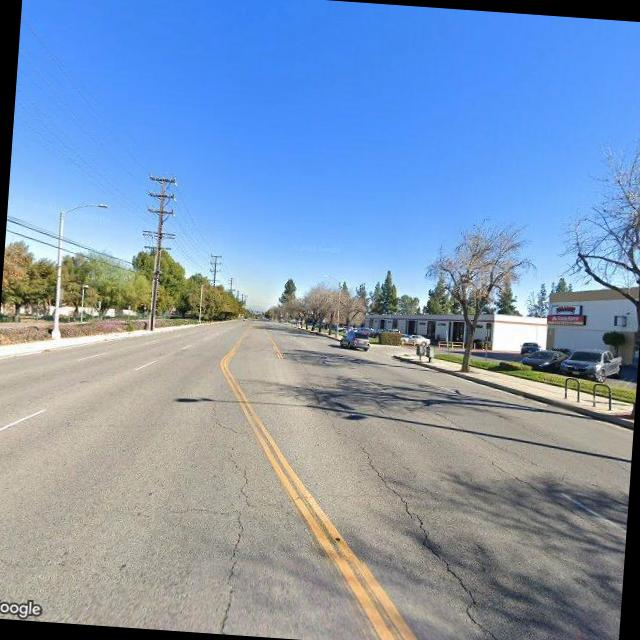crack: (340, 449, 545, 640), (468, 446, 620, 542), (172, 469, 381, 532), (209, 436, 259, 634), (366, 397, 434, 443), (204, 396, 244, 433)
